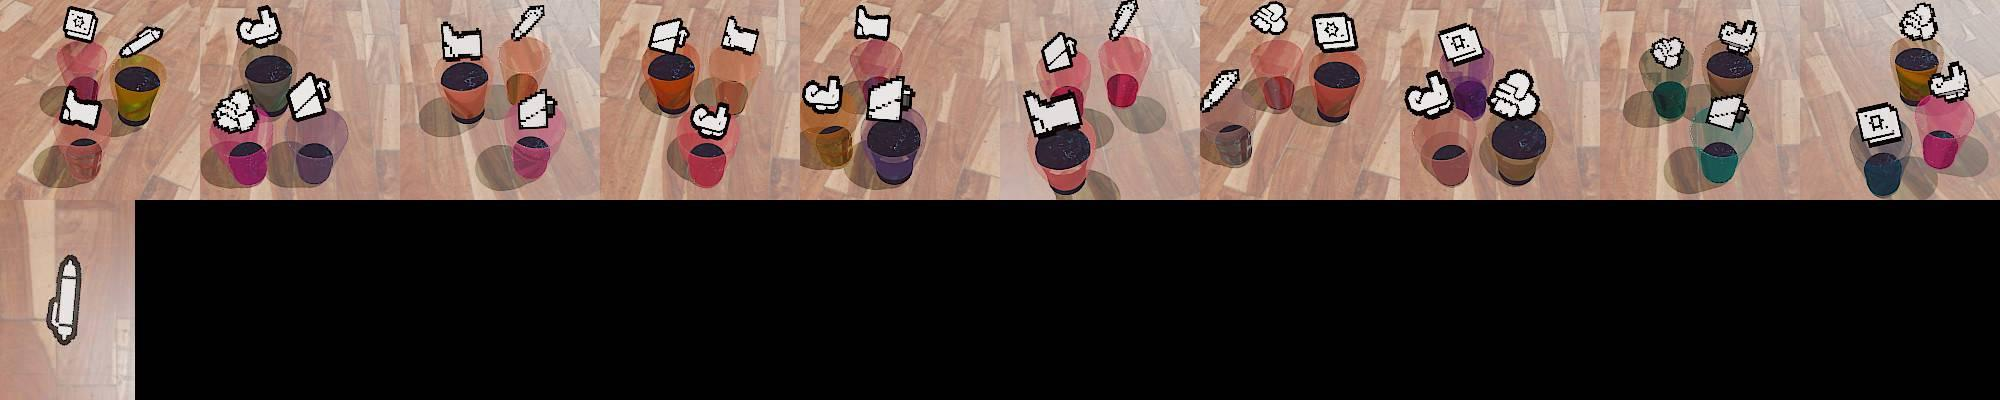icon: (45, 250, 83, 346), (1023, 86, 1083, 136), (1487, 68, 1540, 121), (1404, 69, 1453, 119), (865, 74, 915, 122), (1854, 101, 1904, 148), (210, 88, 260, 134), (286, 71, 331, 122), (1437, 22, 1486, 68), (236, 4, 283, 49), (59, 84, 103, 129), (1311, 12, 1357, 54), (516, 86, 558, 129), (440, 21, 484, 62), (1929, 61, 1972, 102), (801, 72, 844, 113), (689, 98, 732, 138), (1201, 67, 1238, 113), (719, 15, 760, 55), (1041, 30, 1079, 73), (1704, 93, 1747, 131), (648, 17, 690, 55), (1717, 19, 1759, 57), (119, 25, 164, 60), (1899, 3, 1937, 42), (853, 4, 892, 42), (509, 4, 545, 43), (62, 6, 99, 43), (1250, 2, 1289, 37), (1107, 0, 1139, 42), (1649, 35, 1685, 70)
